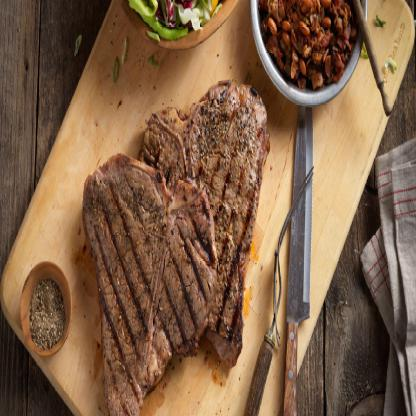Carne: (80, 147, 175, 416), (188, 78, 260, 376), (138, 167, 218, 386)
